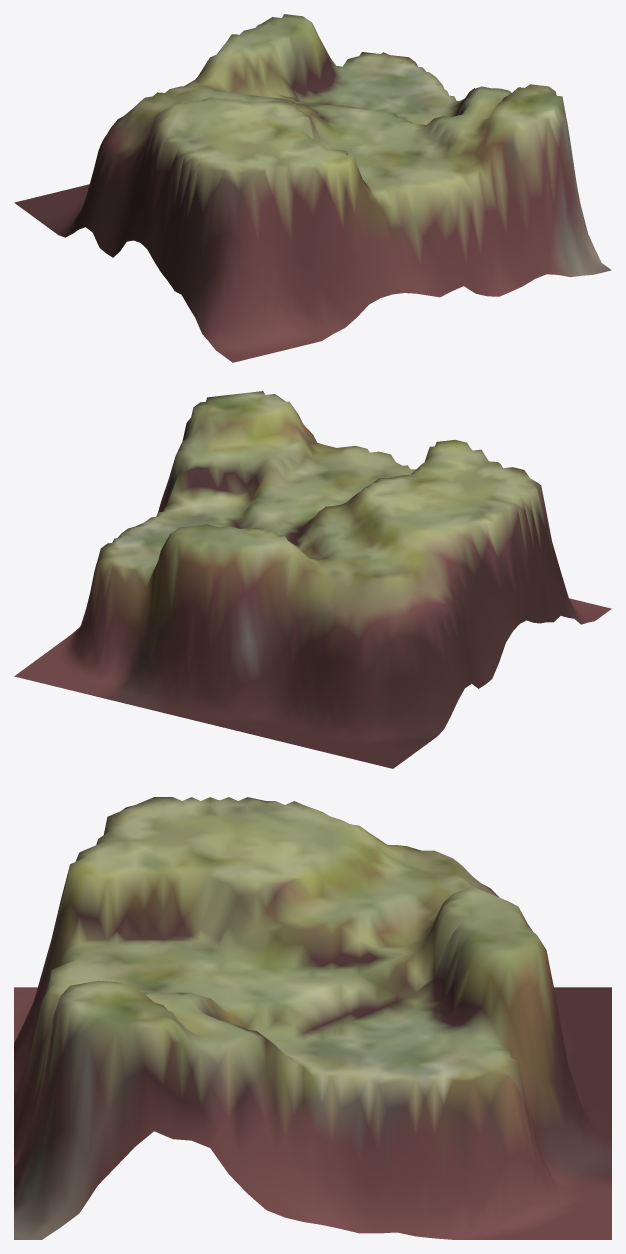
The model's file is Terrain1.fbx.
The picture shows the model from 3 angles, top to bottom: view 1: azimuth 30°, elevation 25°; view 2: azimuth 150°, elevation 25°; view 3: azimuth 270°, elevation 25°; orthographic projection. The views are drawn at different scales.
Visible parts, largest first — view 1: Terrain1; view 2: Terrain1; view 3: Terrain1.
Boxes of the visible parts, x1=… form: Terrain1: x1=14, y1=14, x2=611, y2=362; Terrain1: x1=14, y1=391, x2=611, y2=768; Terrain1: x1=14, y1=797, x2=611, y2=1239.
Bounding box in the file's own units: 2000 × 760 × 2000.
